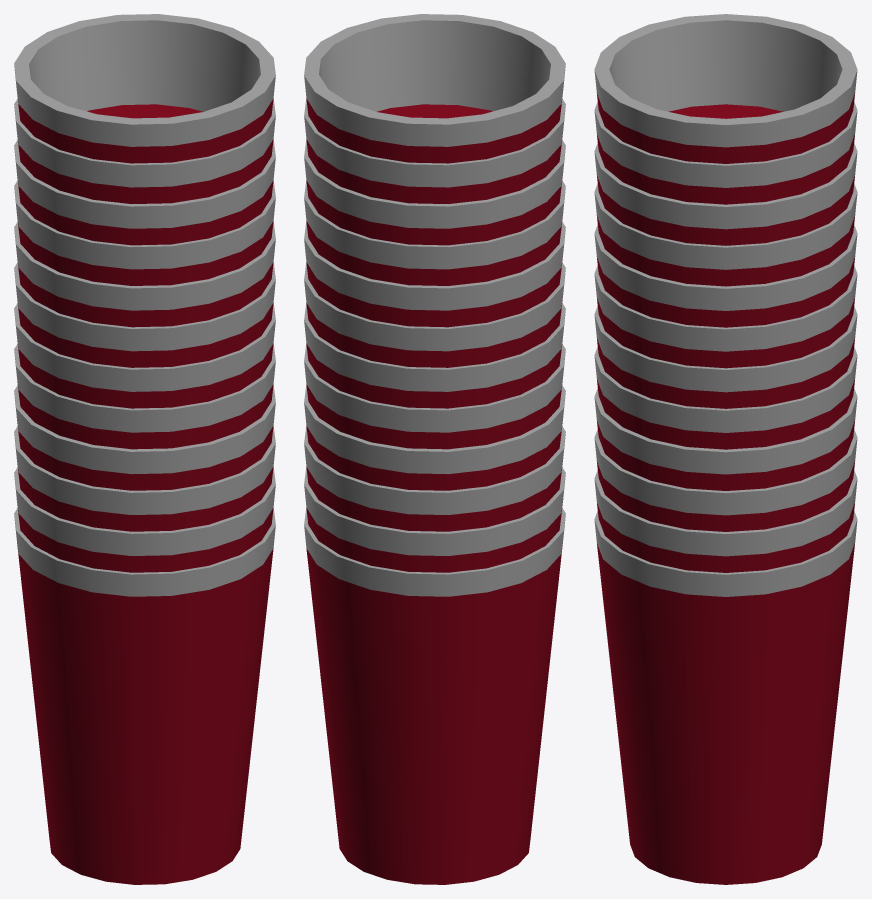
Rendered from SoloTallStack.fbx.
3 renders of one model, left to right at view 1: azimuth 30°, elevation 25°; view 2: azimuth 150°, elevation 25°; view 3: azimuth 270°, elevation 25°, orthographic.
Parts seen in each view (by area): view 1: SoloTallStack; view 2: SoloTallStack; view 3: SoloTallStack.
Part boxes in pixels (box(x1,y1,x2,y2)): SoloTallStack: box(14, 14, 275, 884); SoloTallStack: box(304, 14, 565, 884); SoloTallStack: box(594, 14, 857, 884).
Size of the model in its own units: 195 by 635 by 195.
